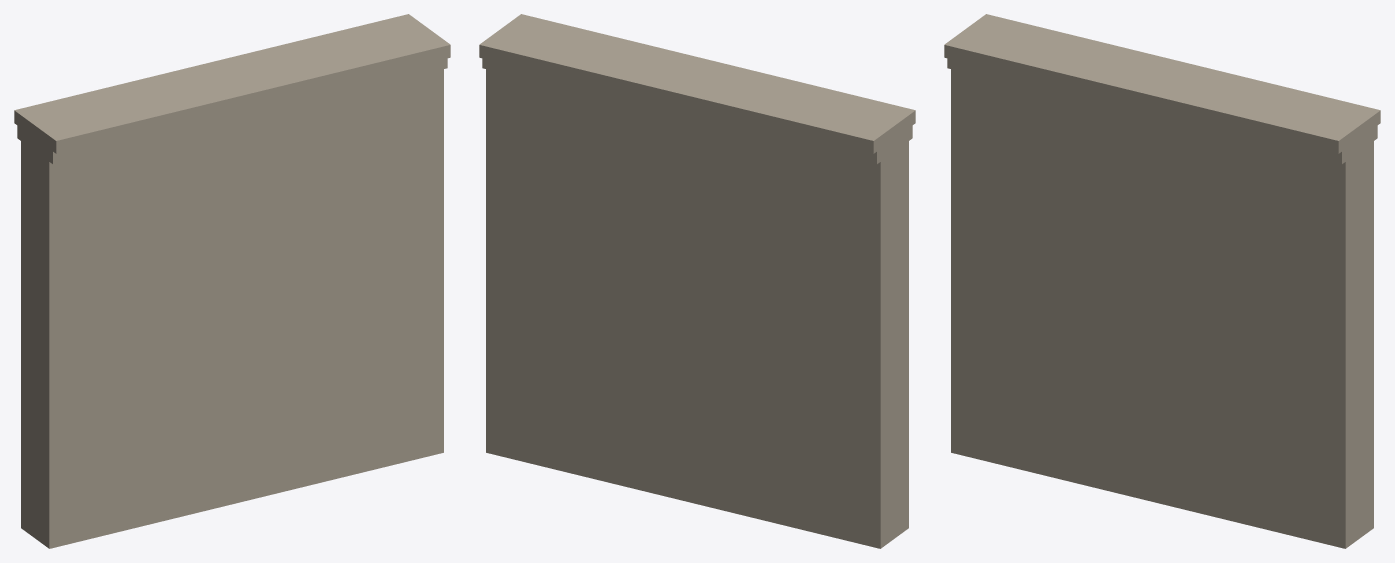
Rendered from Village_Wall_Plaster_2m_Roof_A.fbx.
The picture shows the model from 3 angles, left to right: view 1: azimuth 30°, elevation 25°; view 2: azimuth 150°, elevation 25°; view 3: azimuth 330°, elevation 25°; orthographic projection.
Parts seen in each view (by area): view 1: Village_Wall_2m_Roof_A; view 2: Village_Wall_2m_Roof_A; view 3: Village_Wall_2m_Roof_A.
Boxes of the visible parts, x1,y1,x2,y2 form: Village_Wall_2m_Roof_A: (14, 14, 450, 548); Village_Wall_2m_Roof_A: (479, 14, 915, 548); Village_Wall_2m_Roof_A: (944, 14, 1380, 548).
Size of the model in its own units: 200 by 200 by 36.91.
